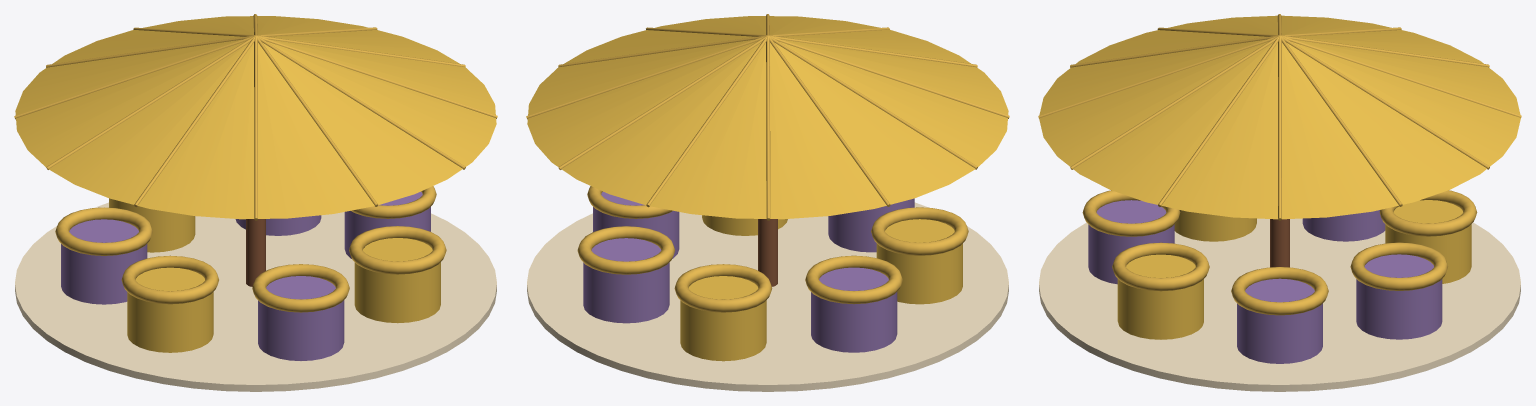
The model's file is honey.glb.
The picture shows the model from 3 angles, left to right: view 1: azimuth 30°, elevation 25°; view 2: azimuth 150°, elevation 25°; view 3: azimuth 270°, elevation 25°; orthographic projection.
Bounding box in the file's own units: 3.81 × 2.21 × 3.81.
